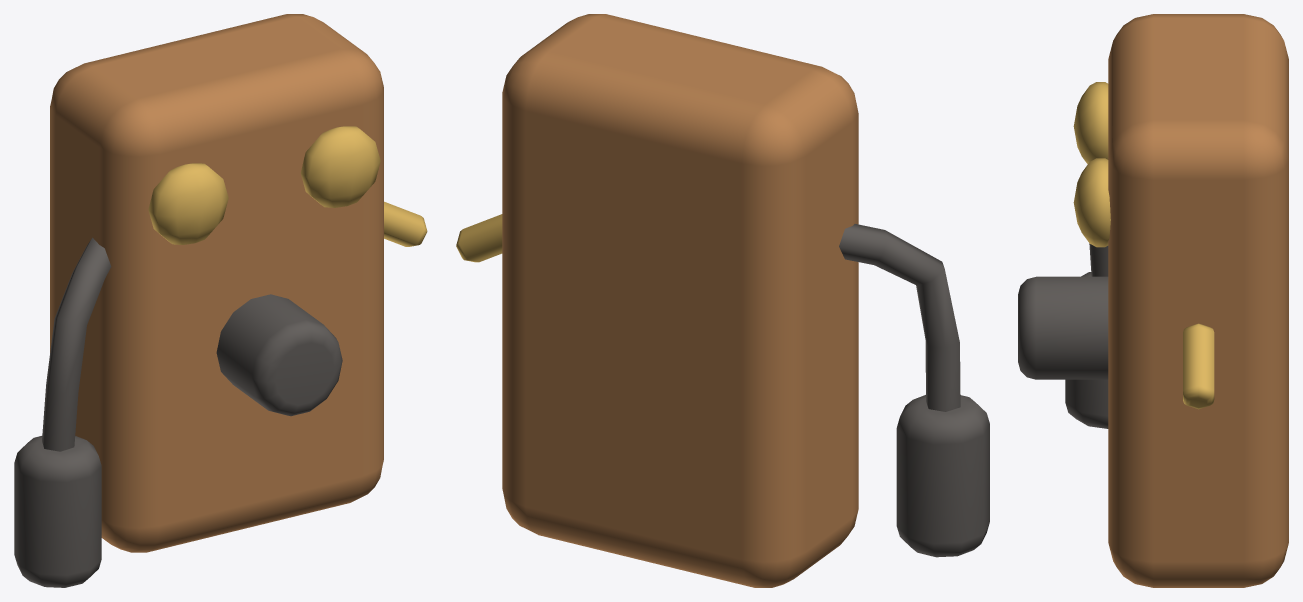
The model's file is wall_crank_phone.glb.
3 views of the same model, side by side, from view 1: azimuth 30°, elevation 25°; view 2: azimuth 150°, elevation 25°; view 3: azimuth 270°, elevation 25° (orthographic). The views are drawn at different scales.
Visible parts, largest first — view 1: wall_crank_phone_mesh; view 2: wall_crank_phone_mesh; view 3: wall_crank_phone_mesh.
Boxes of the visible parts, x1,y1,x2,y2 form: wall_crank_phone_mesh: [14, 14, 427, 587]; wall_crank_phone_mesh: [456, 14, 989, 587]; wall_crank_phone_mesh: [1018, 14, 1288, 587].
Bounding box in the file's own units: 0.3539 × 0.34 × 0.18.
